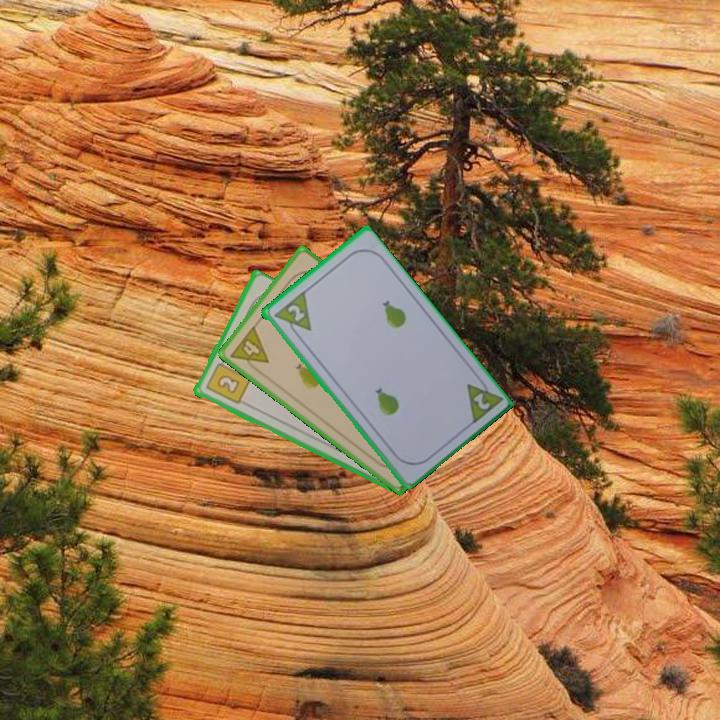2b: (202, 354, 253, 407)
2p: (283, 300, 307, 325), (469, 389, 493, 413)
4p: (226, 322, 272, 376)
